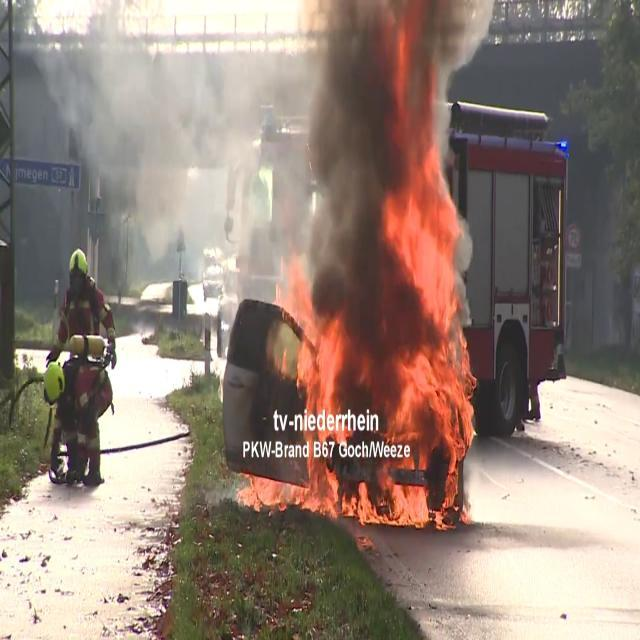Fire: (386, 140, 479, 528), (238, 455, 390, 533), (277, 279, 349, 418)
Smoke: (29, 0, 278, 268), (290, 0, 475, 335)
